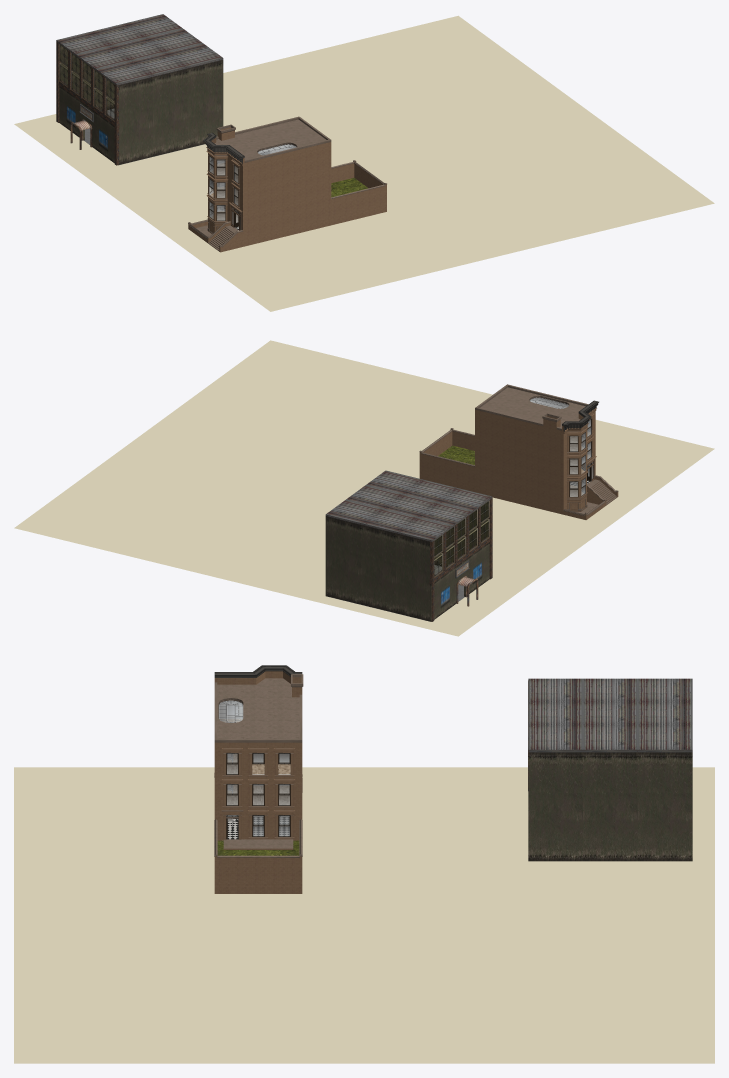
3 views of the same model, one above another, from view 1: azimuth 30°, elevation 25°; view 2: azimuth 150°, elevation 25°; view 3: azimuth 270°, elevation 25° (orthographic). The views are drawn at different scales.
Parts seen in each view (by area): view 1: Terrain 13,7, Terrain 13,6, Old shop building, Terrain 12,6, classic brownstone (×4), Terrain 12,7; view 2: Terrain 13,6, Terrain 13,7, Old shop building, classic brownstone (×4), Terrain 12,7, Terrain 12,6; view 3: Terrain 13,6, Terrain 13,7, Terrain 12,6, Terrain 12,7, Old shop building, classic brownstone (×5).
Part boxes in pixels (bbox=[...]): Terrain 13,7: bbox=[237, 15, 586, 163]; Terrain 13,6: bbox=[365, 109, 714, 257]; Old shop building: bbox=[56, 14, 223, 165]; Terrain 12,6: bbox=[142, 164, 492, 311]; classic brownstone (×4): bbox=[211, 116, 386, 246]; Terrain 12,7: bbox=[14, 70, 363, 217]; Terrain 13,6: bbox=[142, 340, 492, 487]; Terrain 13,7: bbox=[14, 434, 361, 582]; Old shop building: bbox=[325, 470, 492, 621]; classic brownstone (×4): bbox=[419, 384, 588, 514]; Terrain 12,7: bbox=[236, 517, 586, 636]; Terrain 12,6: bbox=[389, 394, 714, 542]; Terrain 13,6: bbox=[14, 915, 364, 1063]; Terrain 13,7: bbox=[364, 915, 714, 1063]; Terrain 12,6: bbox=[14, 767, 364, 915]; Terrain 12,7: bbox=[364, 767, 714, 915]; Old shop building: bbox=[528, 678, 692, 861]; classic brownstone (×5): bbox=[214, 671, 302, 893].
Size of what is drawn, in the model's own units: 128 by 26.22 by 128.
54 materials, 53 textured.
